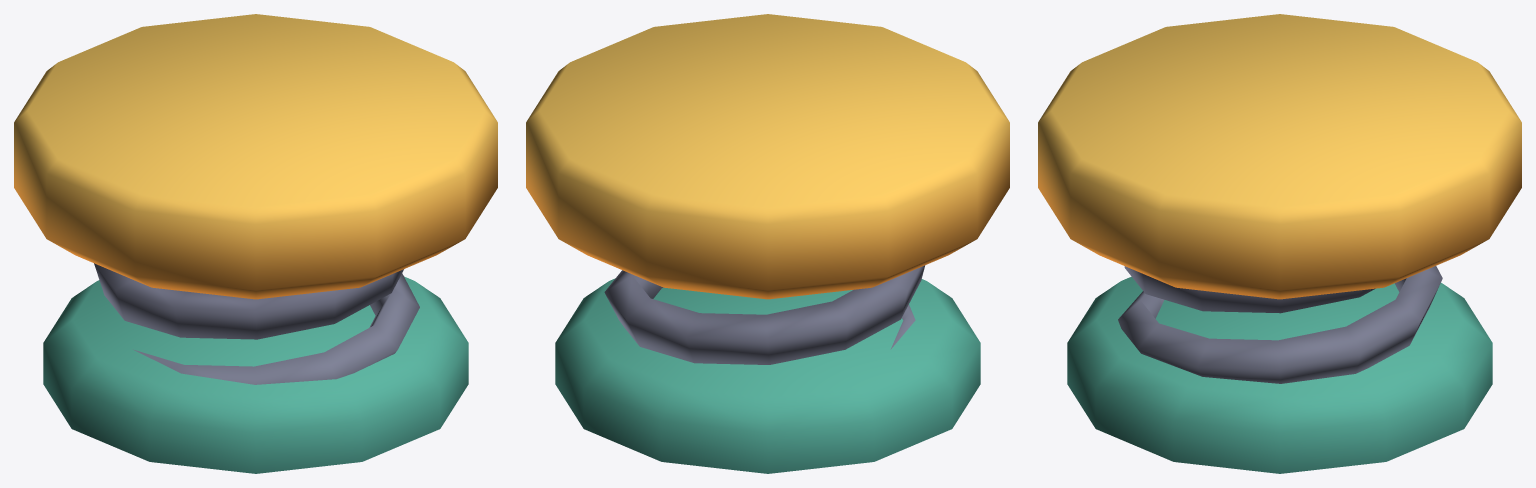
Rendered from spring.glb.
3 views of the same model, side by side, from view 1: azimuth 30°, elevation 25°; view 2: azimuth 150°, elevation 25°; view 3: azimuth 270°, elevation 25° (orthographic).
Visible parts, largest first — view 1: platform, spring (×2); view 2: platform, spring (×2); view 3: platform, spring (×2).
Boxes of the visible parts, x1,y1,x2,y2 form: platform: [14, 14, 497, 299]; spring (×2): [43, 263, 468, 473]; platform: [526, 14, 1009, 299]; spring (×2): [555, 265, 980, 473]; platform: [1038, 14, 1521, 299]; spring (×2): [1067, 266, 1492, 473].
Bounding box in the file's own units: 0.75 × 0.4679 × 0.75.
